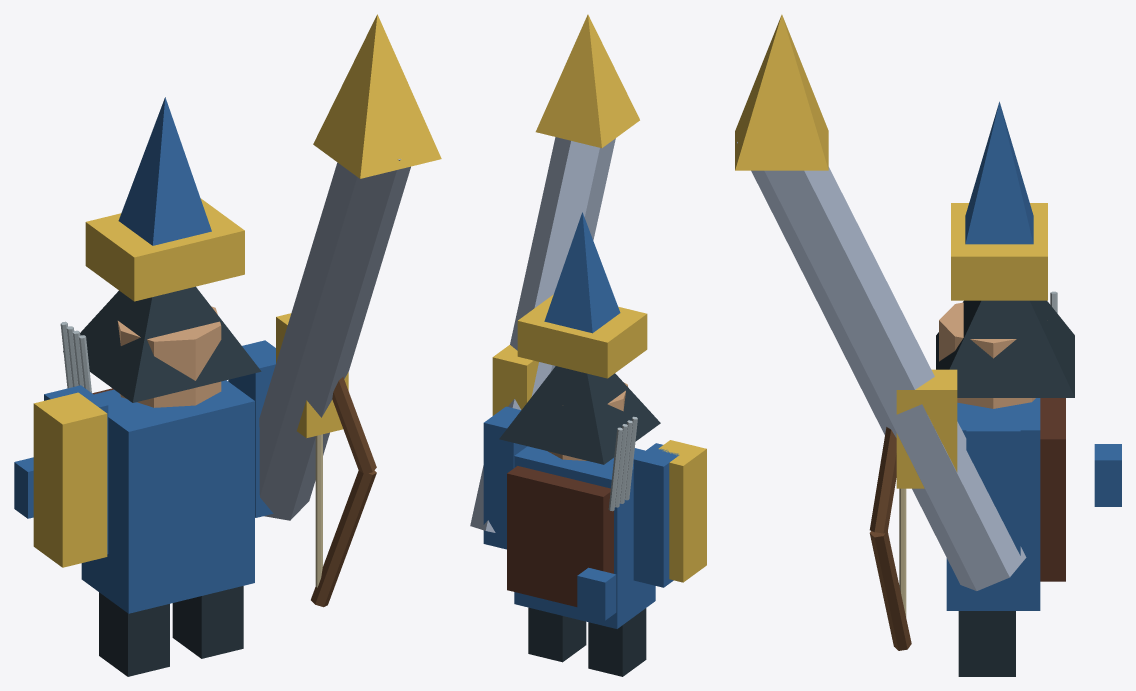
Rendered from anti-air-infantry.obj.
3 renders of one model, left to right at view 1: azimuth 30°, elevation 25°; view 2: azimuth 150°, elevation 25°; view 3: azimuth 270°, elevation 25°, orthographic. The views are drawn at different scales.
Visible parts, largest first — view 1: ranged; view 2: ranged; view 3: ranged.
Boxes of the visible parts, x1=… form: ranged: x1=14, y1=14, x2=441, y2=676; ranged: x1=470, y1=14, x2=706, y2=676; ranged: x1=735, y1=14, x2=1121, y2=676.
Bounding box in the file's own units: 1.05 × 2.5 × 1.28.
